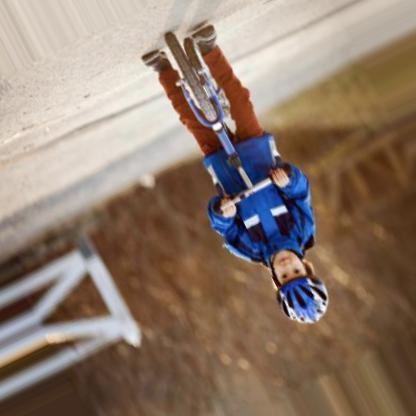with helmet: (270, 249, 330, 325)
